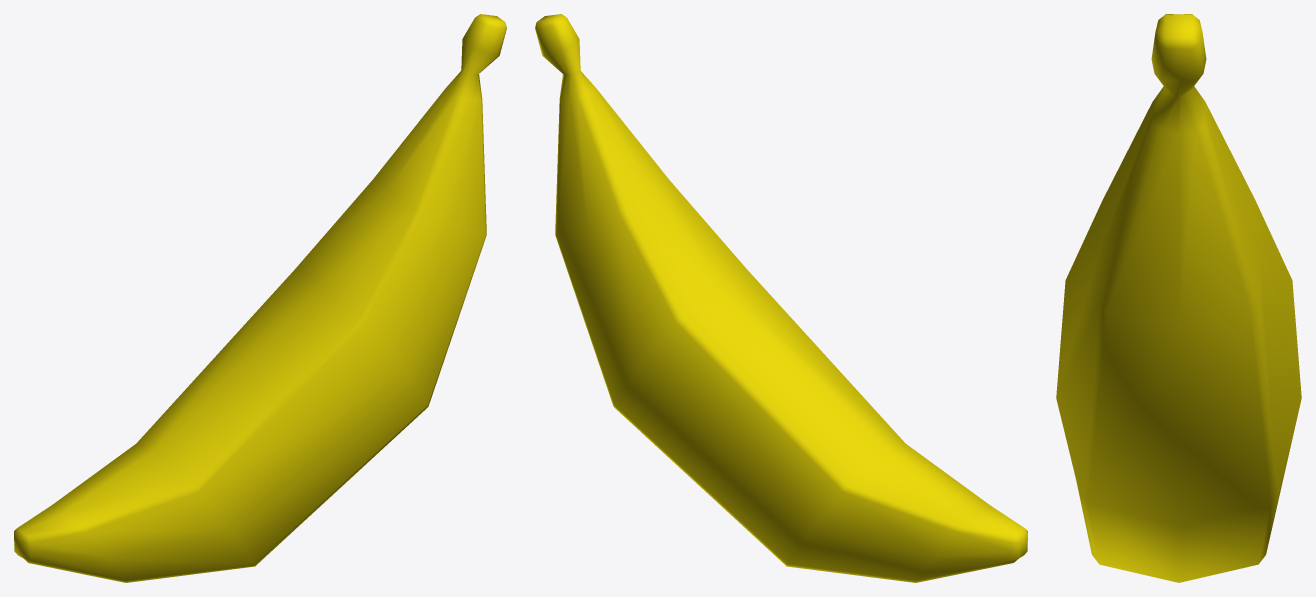
The model's file is banana01.fbx.
3 renders of one model, left to right at view 1: azimuth 30°, elevation 25°; view 2: azimuth 150°, elevation 25°; view 3: azimuth 270°, elevation 25°, orthographic. The views are drawn at different scales.
Parts seen in each view (by area): view 1: Base.005; view 2: Base.005; view 3: Base.005.
Part boxes in pixels (<box>): Base.005: <box>14,14,506,582</box>; Base.005: <box>535,14,1027,582</box>; Base.005: <box>1056,14,1301,582</box>.
Bounding box in the file's own units: 1.94 × 1.82 × 0.5328.
